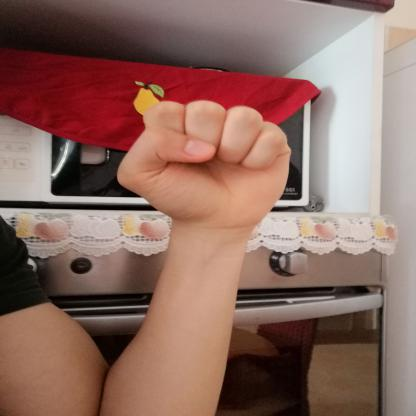SAD: (100, 85, 304, 239)
